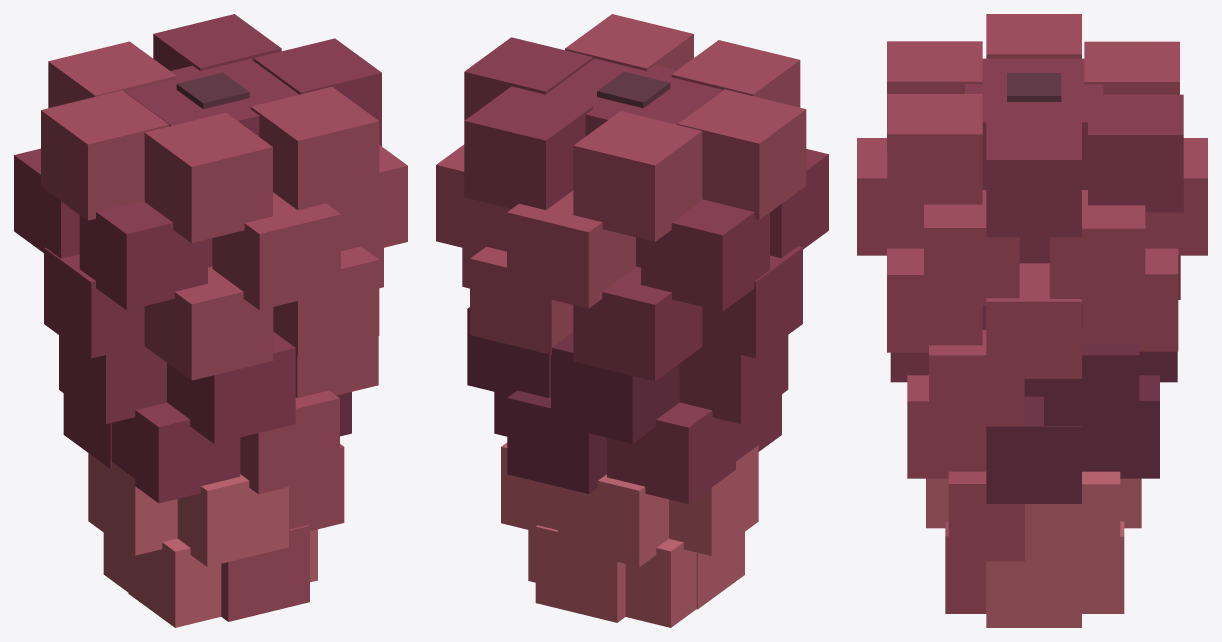
The model's file is BB-02_tayberry.glb.
3 renders of one model, left to right at view 1: azimuth 30°, elevation 25°; view 2: azimuth 150°, elevation 25°; view 3: azimuth 270°, elevation 25°, orthographic.
Visible parts, largest first — view 1: Tayberry · original workbench cubes; view 2: Tayberry · original workbench cubes; view 3: Tayberry · original workbench cubes.
Part boxes in pixels (x1,y1,x2,y2): Tayberry · original workbench cubes: [14, 14, 407, 627]; Tayberry · original workbench cubes: [436, 14, 828, 627]; Tayberry · original workbench cubes: [857, 14, 1207, 627].
Bounding box in the file's own units: 0.0952 × 0.152 × 0.0961.
